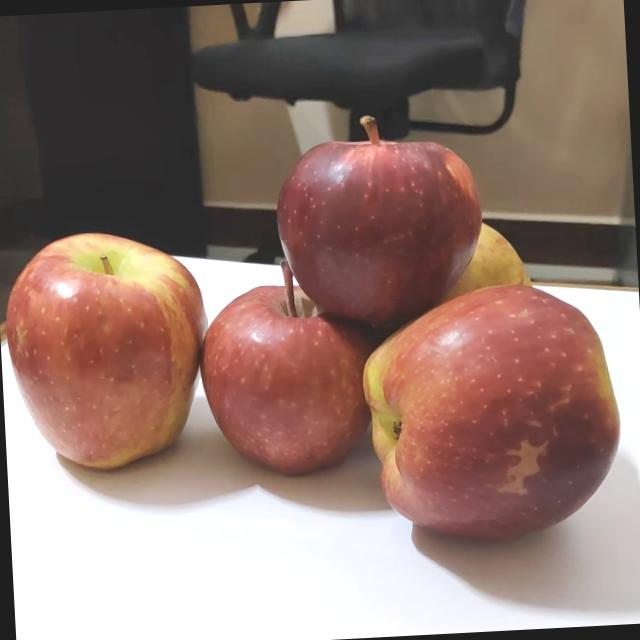apple: (352, 274, 634, 552), (0, 222, 212, 471), (266, 103, 488, 330), (196, 251, 387, 481), (388, 204, 548, 317)
